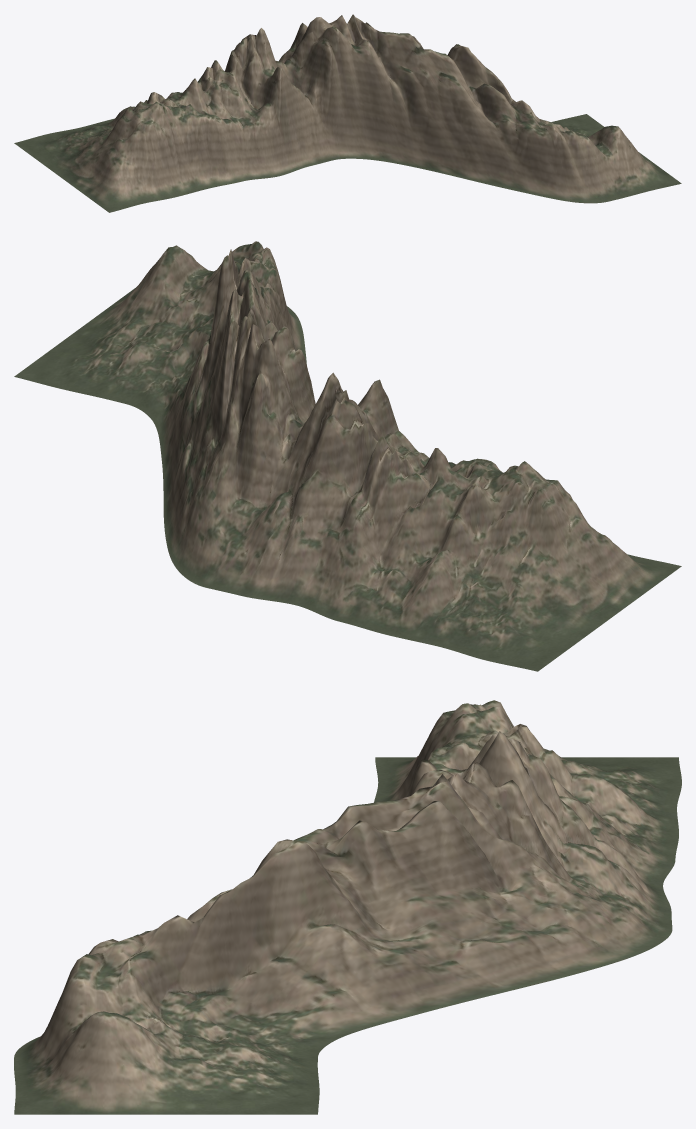
File: coastal-ridge.glb
3 renders of one model, top to bottom at view 1: azimuth 30°, elevation 25°; view 2: azimuth 150°, elevation 25°; view 3: azimuth 270°, elevation 25°, orthographic. The views are drawn at different scales.
Parts seen in each view (by area): view 1: DistantCoastalRidge; view 2: DistantCoastalRidge; view 3: DistantCoastalRidge.
Part boxes in pixels (bbox=[...]): DistantCoastalRidge: bbox=[14, 14, 681, 212]; DistantCoastalRidge: bbox=[14, 241, 681, 671]; DistantCoastalRidge: bbox=[14, 700, 681, 1114].
Bounding box in the file's own units: 515 × 127 × 407.
1 material, 1 textured.
